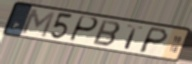5: (48, 12, 76, 41)
B: (91, 19, 123, 48)
M: (19, 7, 57, 39)
P: (137, 26, 170, 55), (67, 15, 100, 44)
T: (122, 24, 145, 51)
